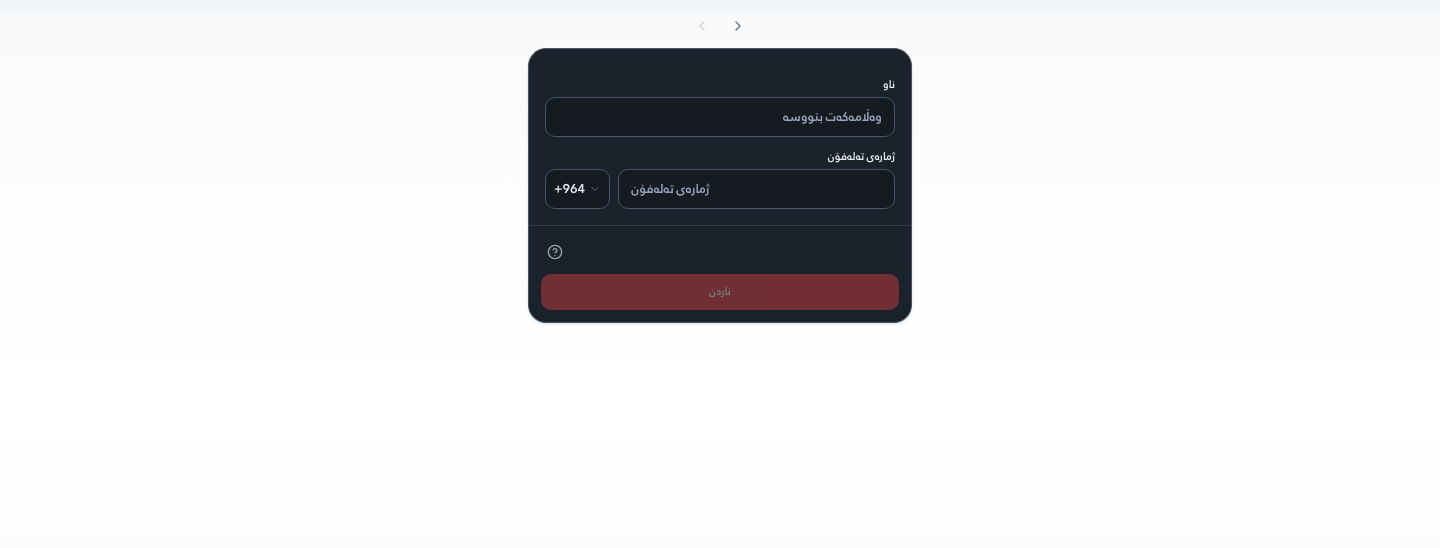
Test: automatic form privacy › keeps ckb policy links accessible from the footer popup even with the checkbox hidden
Click the button named "دەربارەی تایبەتمەندی": coordinates (555, 252) [541, 238, 569, 266]
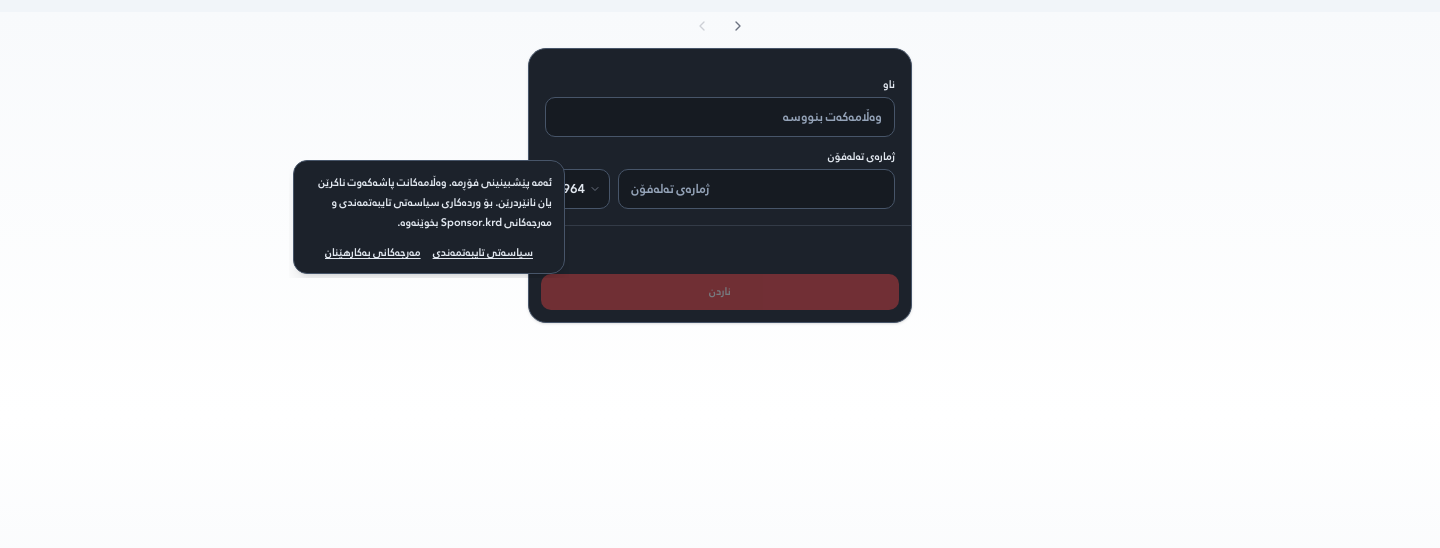
Check: the element named "سیاسەتی تایبەتمەندی" is shown, box [293, 160, 565, 274]
